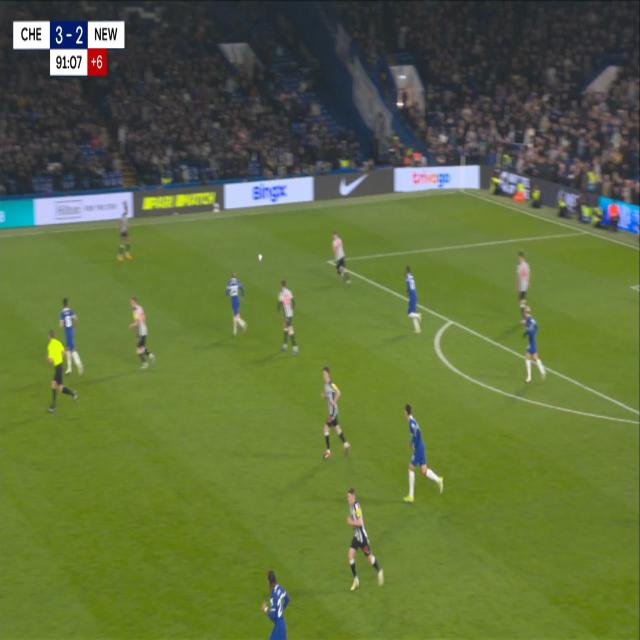Ball: (256, 251, 265, 266)
Chelsea: (398, 397, 446, 508), (56, 298, 87, 378), (261, 561, 292, 640), (519, 302, 548, 385), (402, 260, 424, 340), (224, 268, 249, 338), (407, 416, 428, 468)
New castle: (342, 483, 387, 596), (318, 361, 352, 464), (126, 290, 160, 372), (275, 272, 301, 358), (329, 227, 353, 290), (515, 250, 532, 310), (119, 200, 132, 260)
Refree: (43, 324, 79, 415)
